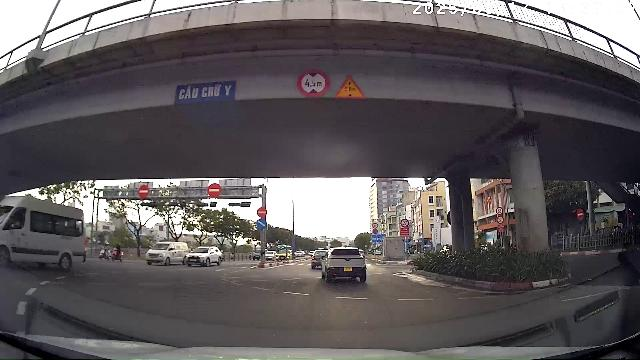102-cam-di-nguoc-chieu: (207, 183, 221, 197), (138, 184, 149, 199), (257, 207, 267, 218), (576, 208, 584, 221)
127-toc-do-toi-da-50: (496, 206, 503, 215)
302a-huong-phai-di-vong-chuong-ngai-vat-1: (256, 219, 267, 230)
